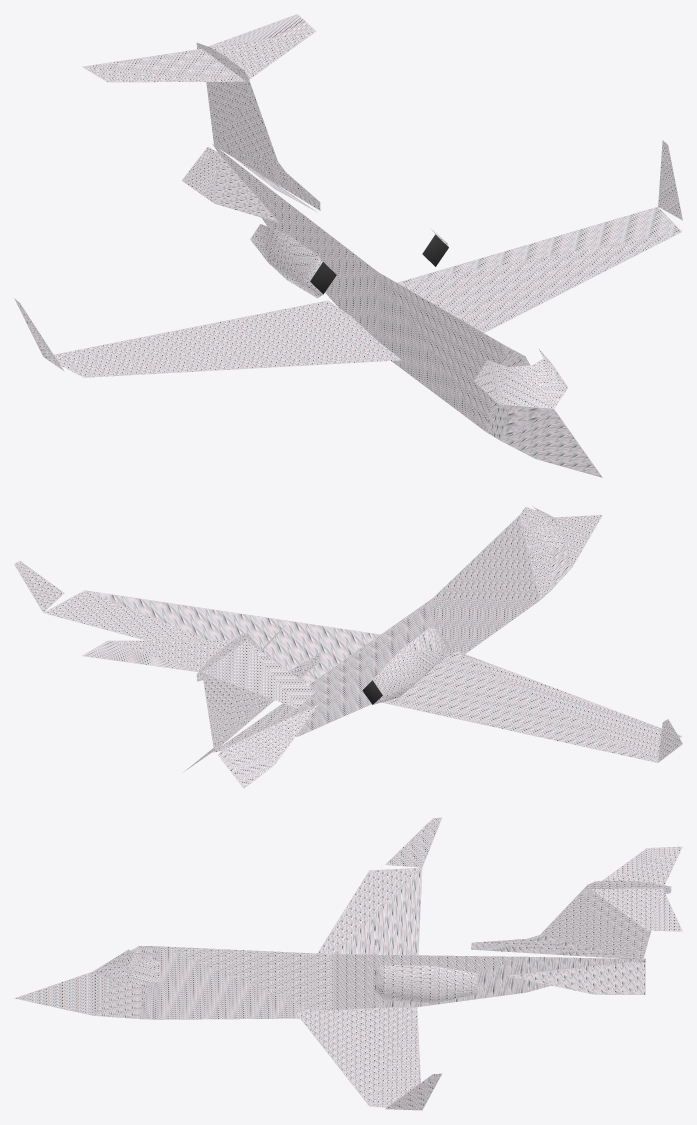
File: HTAI Learjet 31 MSFS_LOD1.gltf
3 views of the same model, one above another, from view 1: azimuth 30°, elevation 25°; view 2: azimuth 150°, elevation 25°; view 3: azimuth 270°, elevation 25° (orthographic). The views are drawn at different scales.
Visible parts, largest first — view 1: node1, node2; view 2: node1; view 3: node1.
Part boxes in pixels (x1=…): node1: x1=14, y1=14, x2=682, y2=477; node2: x1=310, y1=234, x2=448, y2=294; node1: x1=14, y1=506, x2=682, y2=788; node1: x1=14, y1=817, x2=682, y2=1110.
Bounding box in the file's own units: 13.5 × 3.15 × 14.9.
